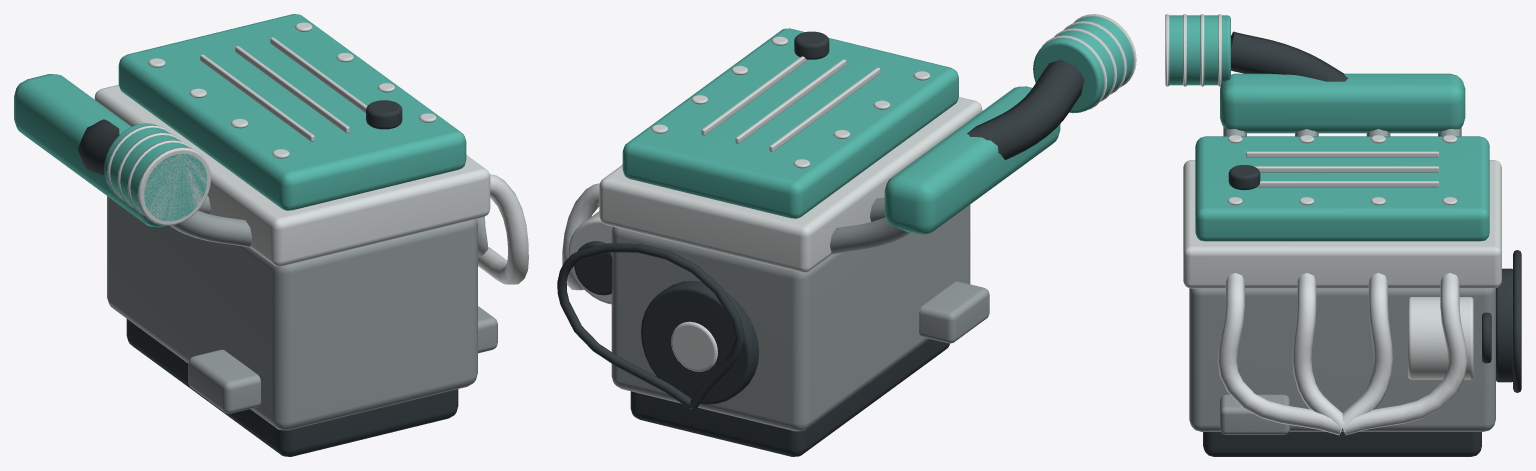
Rendered from engine_workshop.fbx.
The picture shows the model from 3 angles, left to right: view 1: azimuth 30°, elevation 25°; view 2: azimuth 150°, elevation 25°; view 3: azimuth 270°, elevation 25°; orthographic projection. The views are drawn at different scales.
Visible parts, largest first — view 1: engine_workshop; view 2: engine_workshop; view 3: engine_workshop.
Boxes of the visible parts, left/top/right/bottom form: engine_workshop: left=14, top=14, right=528, bottom=456; engine_workshop: left=557, top=14, right=1136, bottom=456; engine_workshop: left=1165, top=14, right=1521, bottom=456.
Size of the model in its own units: 102 by 78.8 by 81.4.
